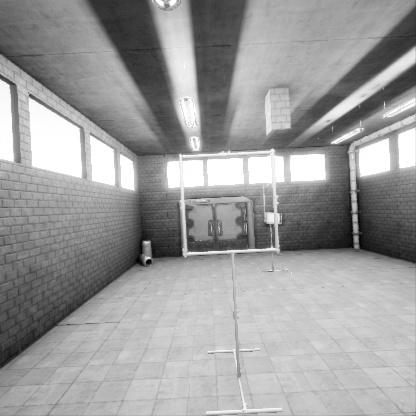gate: (183, 166, 284, 266), (263, 193, 276, 235)
